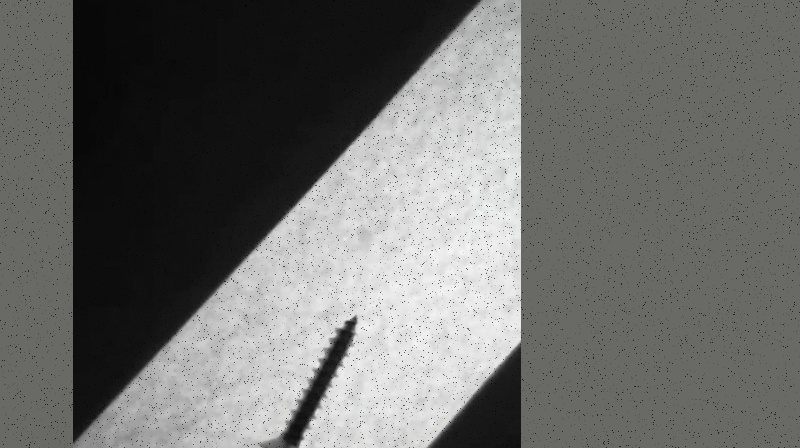S001: (254, 311, 359, 447)
